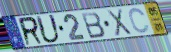2: (63, 13, 87, 42)
B: (80, 11, 106, 40)
C: (128, 7, 150, 35)
R: (18, 16, 46, 48)
U: (34, 14, 62, 45)
X: (105, 8, 133, 38)
